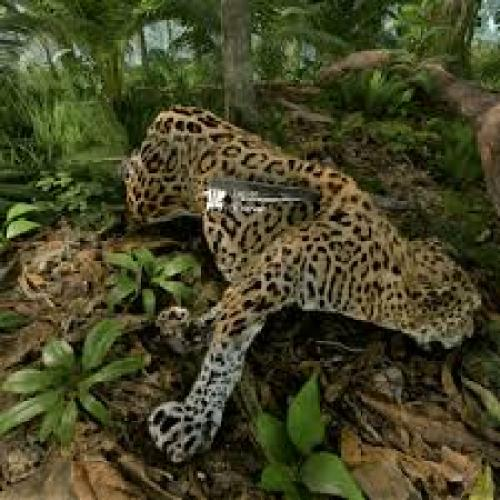jaguar_not-endangered: (122, 104, 482, 461)
